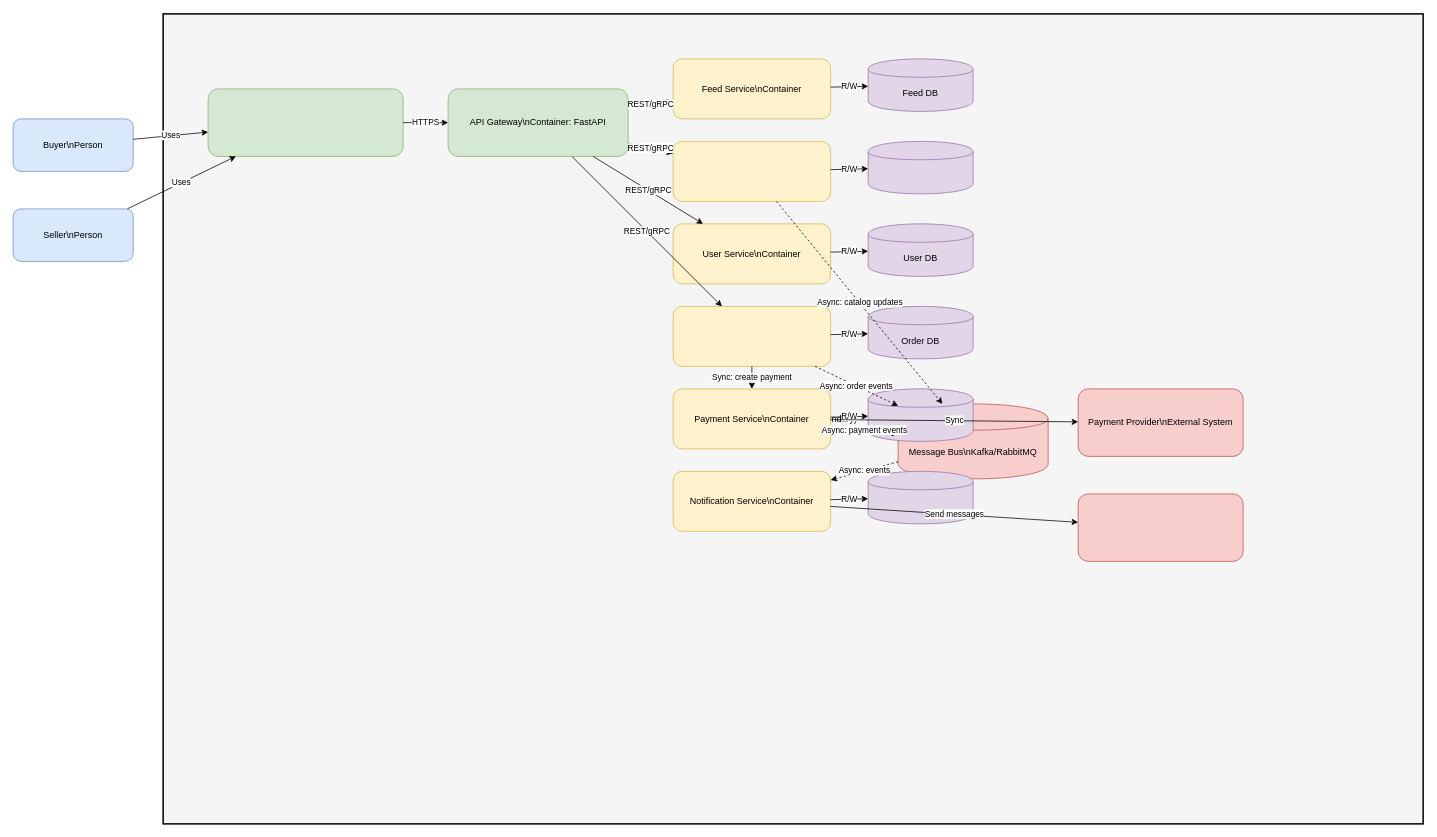
Image size: 1437x837. Some labels were removed from this diagram. The shapes that lost their labels are listed below. From the top down, each one's centre as x and y in pixels, then its label:
At point (305, 122): "Web/Mobile UI\nContainer: SPA/Mobile".
At point (751, 171): "Catalog Service\nContainer".
At point (920, 167): "Catalog DB".
At point (751, 336): "Order Service\nContainer".
At point (920, 414): "Payment DB".
At point (920, 497): "Notification DB".
At point (1160, 527): "Email/SMS Provider\nExternal System".
